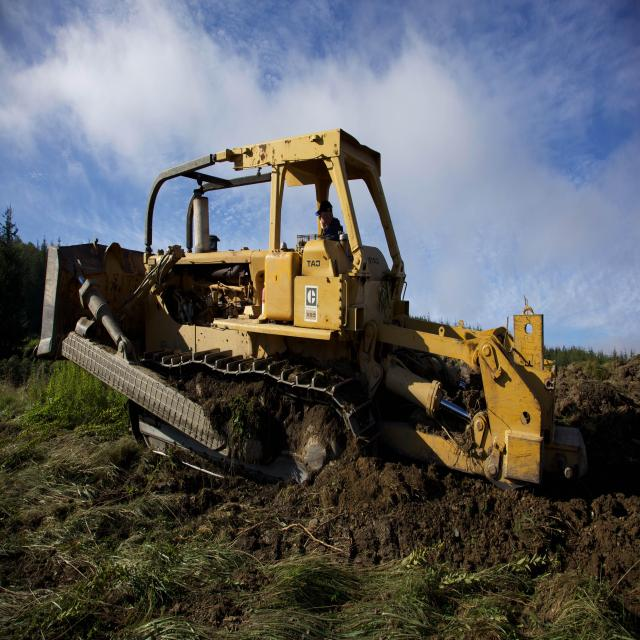buldozerpayloadergrader: (32, 81, 589, 537)
